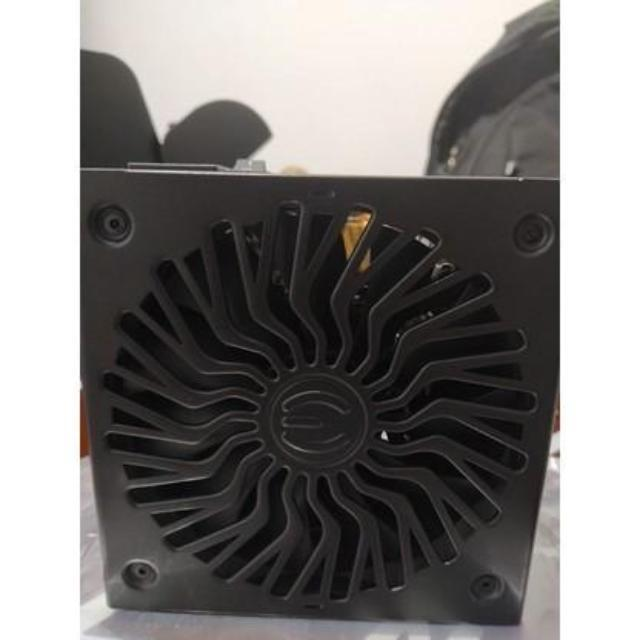PSU: (65, 145, 567, 633)
